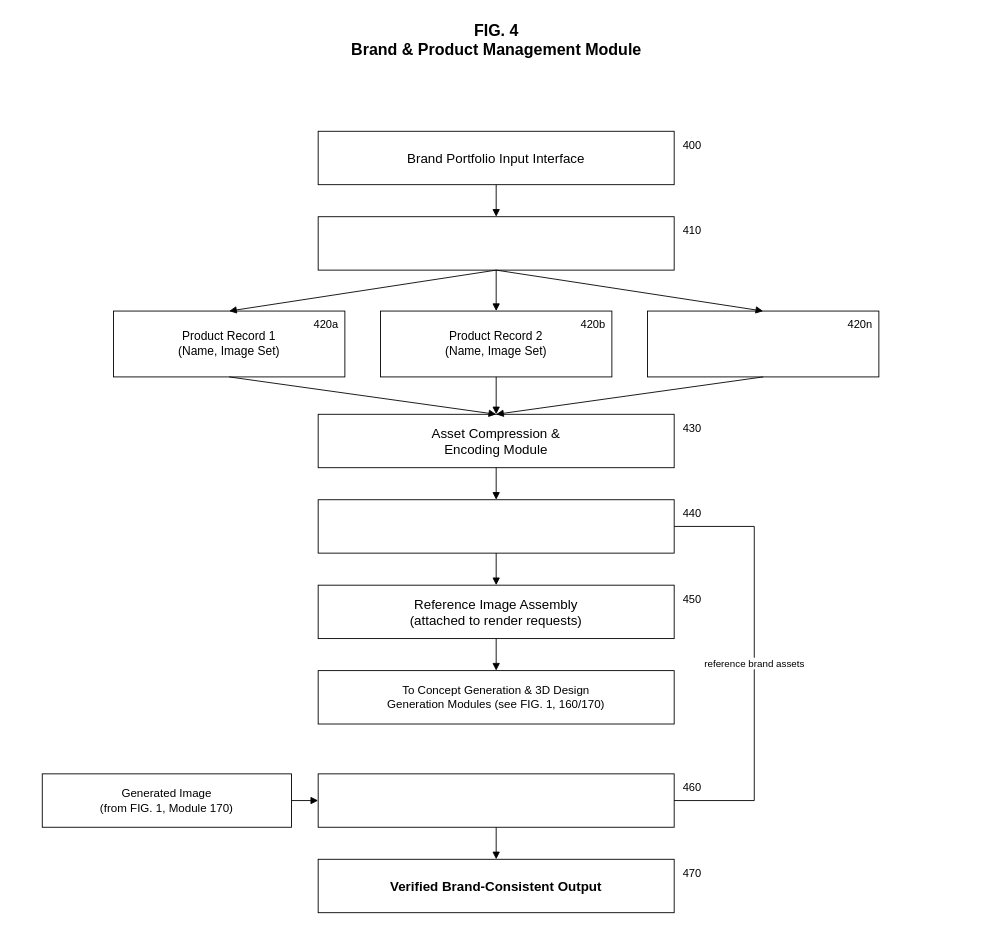
The diagram is 991 pixels wide and 928 high, and some of its shapes have lost their labels. The box of each missing label's shape, as (x1, y1, x2, y2) in pixels:
Brand Asset Integrity Engine (BIE-001) — Correction Pass: (317, 773, 674, 827)
Brand Asset Render Provider: (317, 499, 674, 553)
Brand Record (Name, Logo Image): (317, 216, 674, 270)
Product Record N (Name, Image Set): (647, 310, 879, 377)
